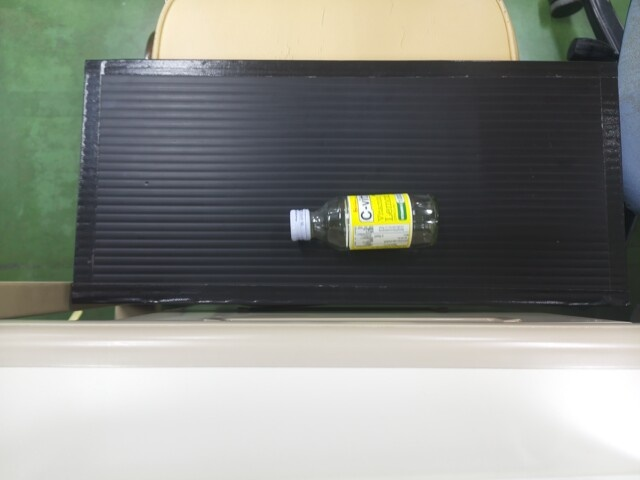glass_bottle: (286, 192, 437, 247)
